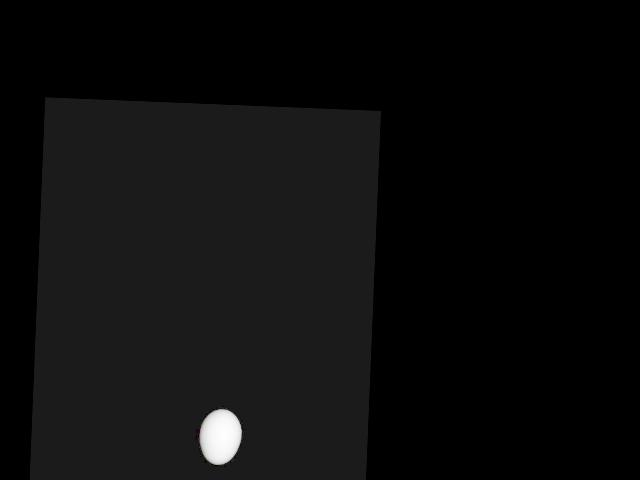egg: (199, 407, 242, 464)
